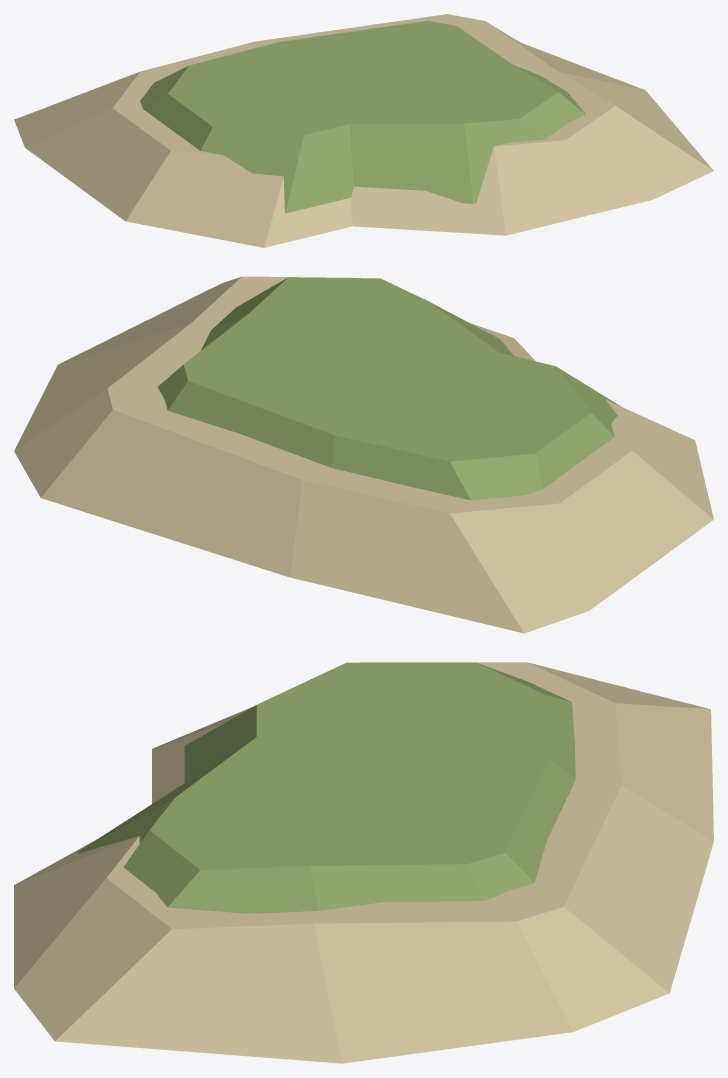
File: Island_01.fbx
The picture shows the model from 3 angles, top to bottom: view 1: azimuth 30°, elevation 25°; view 2: azimuth 150°, elevation 25°; view 3: azimuth 270°, elevation 25°; orthographic projection. The views are drawn at different scales.
Parts seen in each view (by area): view 1: pCube8; view 2: pCube8; view 3: pCube8.
Boxes of the visible parts, left/top/right/bottom form: pCube8: left=14, top=14, right=713, bottom=247; pCube8: left=14, top=276, right=713, bottom=633; pCube8: left=14, top=662, right=713, bottom=1063.
Bounding box in the file's own units: 1105 × 136 × 887.
